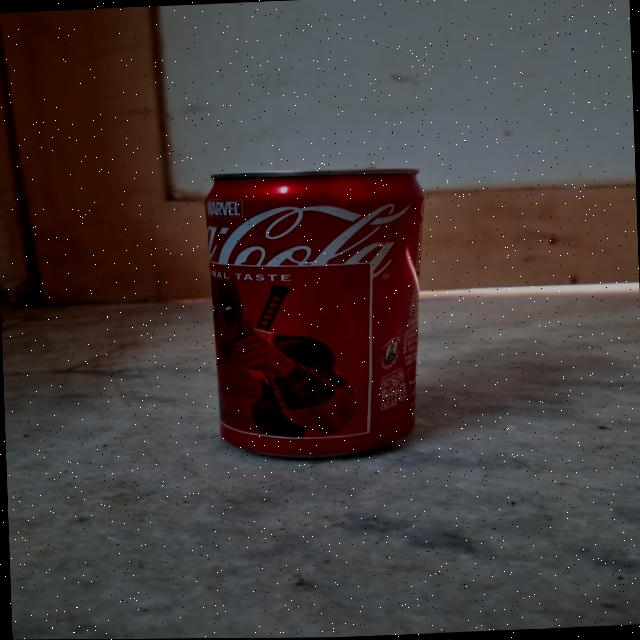Coca Cola - Marvel: (194, 171, 426, 460)
